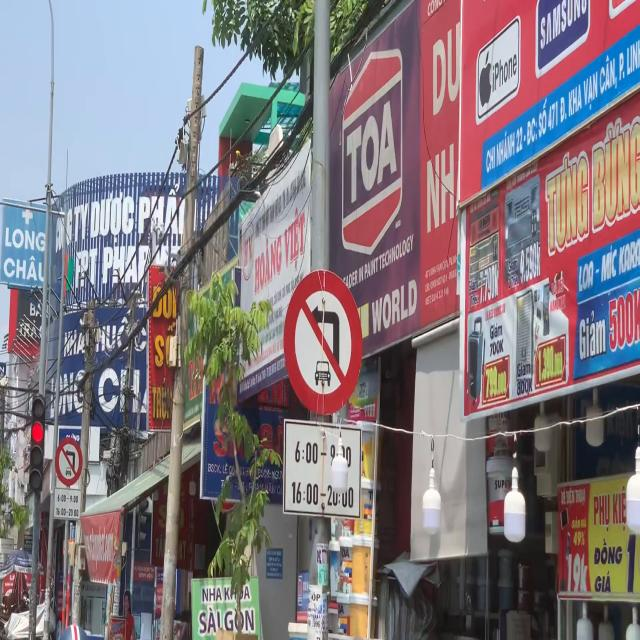Cam re trai: (283, 268, 363, 416), (55, 437, 83, 486)
